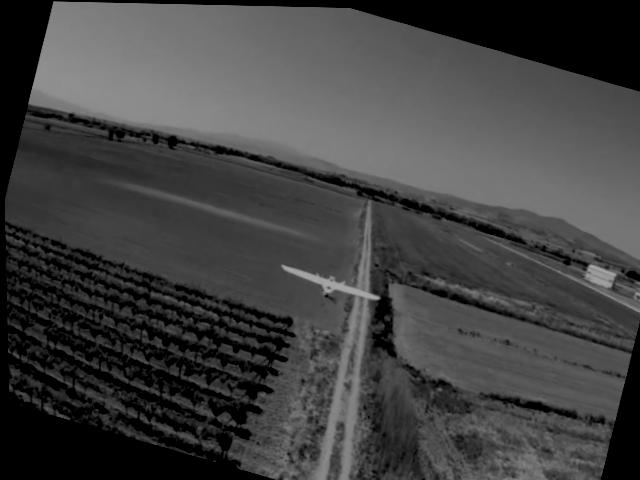hedef: (268, 249, 386, 322)
